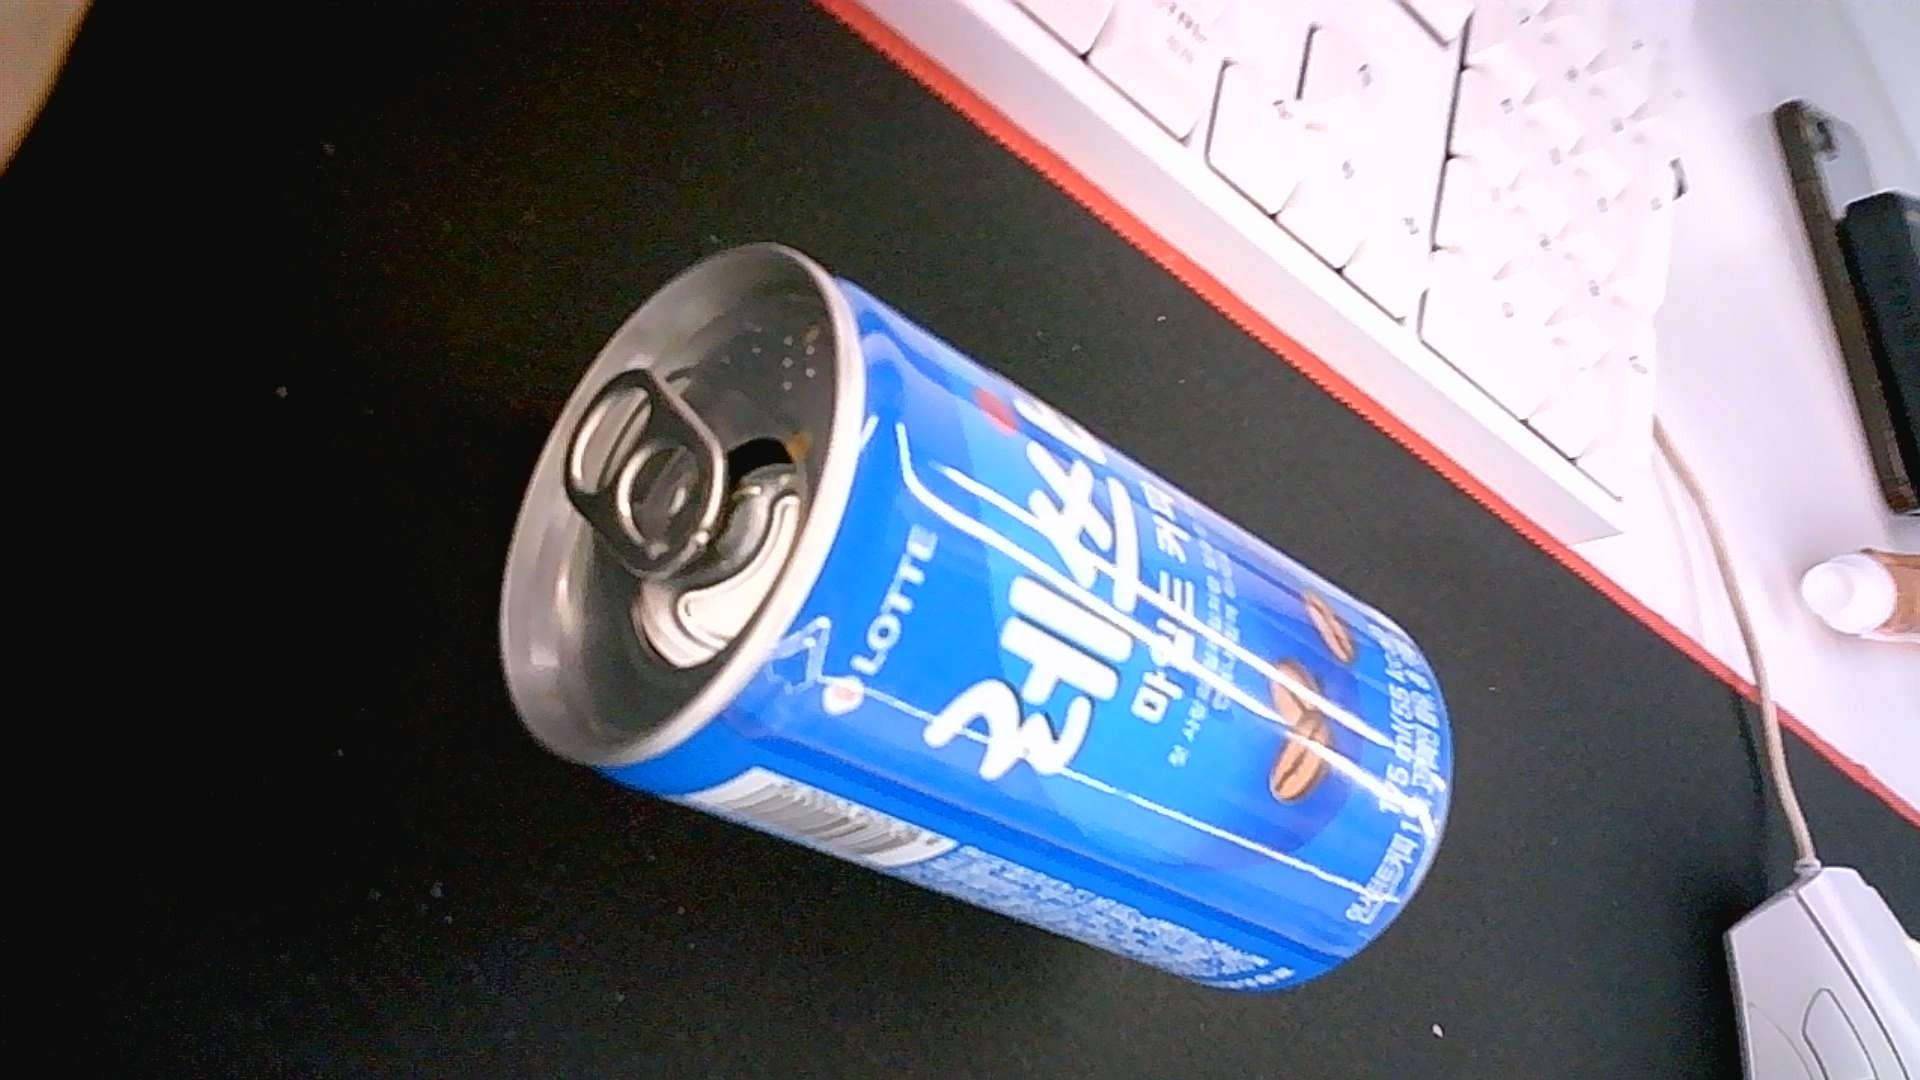letsbe: (502, 240, 1456, 993)
